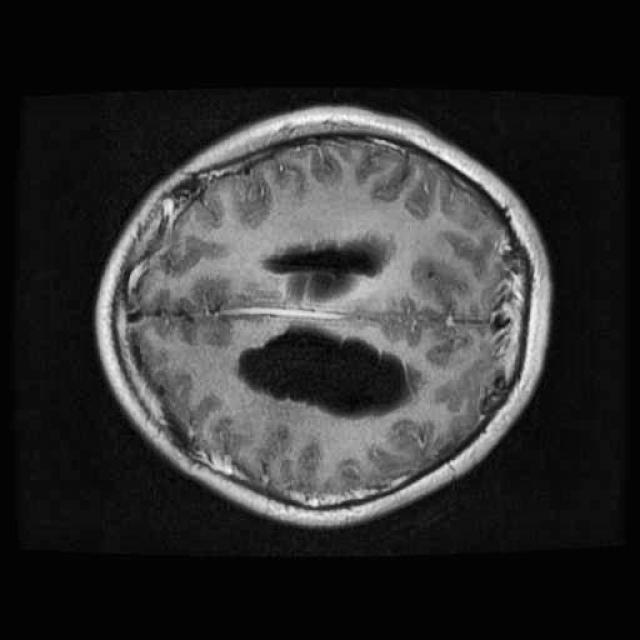Tumor: (221, 306, 427, 428)
